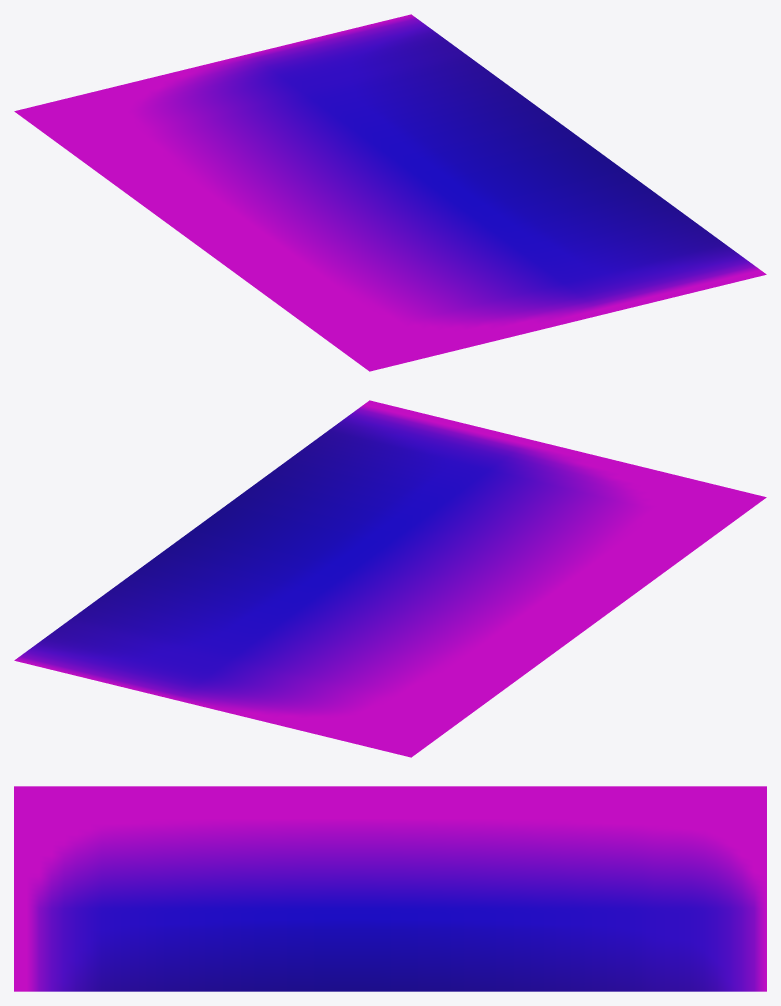
File: OceanPlane_30_WideDumpedShore.FBX
The picture shows the model from 3 angles, top to bottom: view 1: azimuth 30°, elevation 25°; view 2: azimuth 150°, elevation 25°; view 3: azimuth 270°, elevation 25°; orthographic projection. The views are drawn at different scales.
Visible parts, largest first — view 1: attribwrangle1; view 2: attribwrangle1; view 3: attribwrangle1.
Boxes of the visible parts, x1,y1,x2,y2 form: attribwrangle1: (14, 14, 766, 371); attribwrangle1: (14, 400, 766, 757); attribwrangle1: (14, 786, 766, 991).
Bounding box in the file's own units: 129 × 0 × 200.
